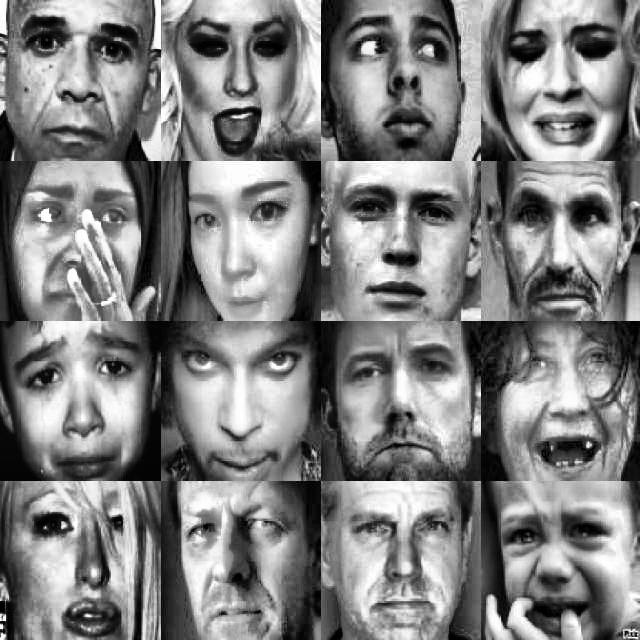angry: (347, 341, 476, 473), (179, 332, 303, 463)
fear: (22, 504, 142, 635)
happy: (179, 19, 297, 148), (499, 341, 628, 457)
neutral: (0, 8, 151, 156), (178, 169, 314, 317), (339, 179, 479, 313), (181, 488, 304, 636), (342, 14, 466, 152), (337, 497, 465, 626), (502, 180, 620, 311)
sad: (17, 331, 153, 473), (497, 20, 628, 151), (500, 500, 628, 628), (20, 185, 144, 313)
